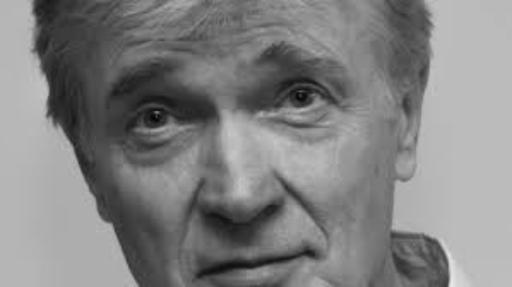left_eye: (280, 87, 337, 110)
left_lip_corner: (287, 248, 325, 266)
right_eye: (124, 108, 205, 134)
right_lip_corner: (190, 266, 215, 284)
